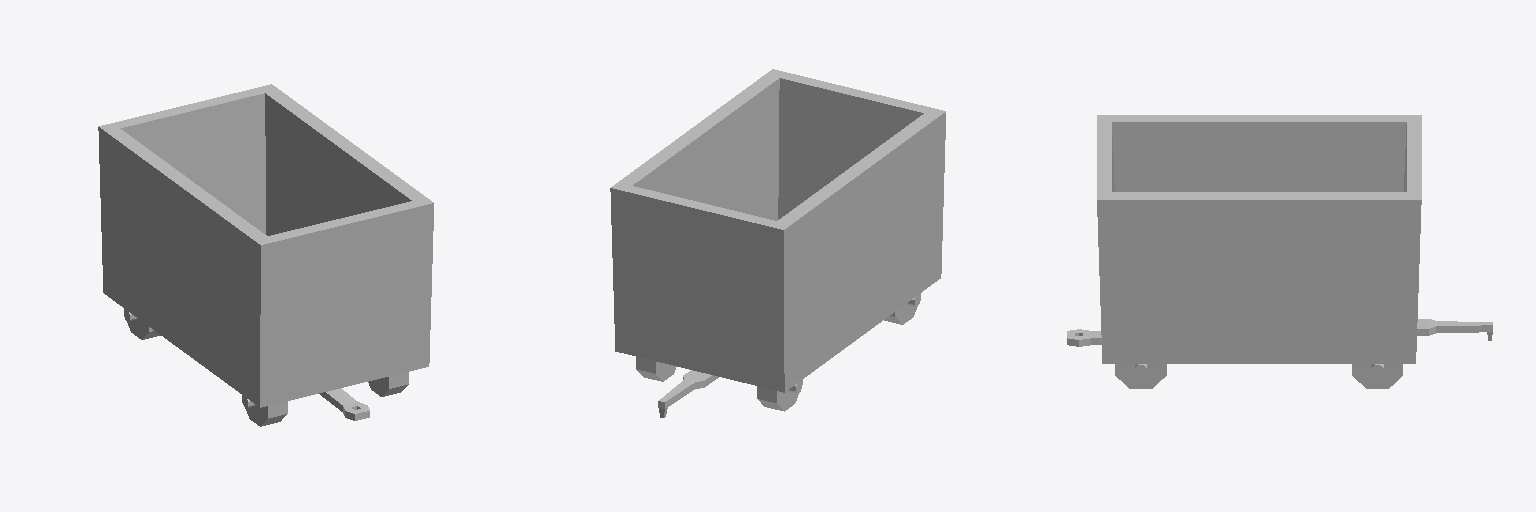
File: rail_cart.obj
The picture shows the model from 3 angles: view 1: azimuth 30°, elevation 25°; view 2: azimuth 150°, elevation 25°; view 3: azimuth 270°, elevation 25°; orthographic projection.
Parts seen in each view (by area): view 1: Cube.001; view 2: Cube.001; view 3: Cube.001.
Part boxes in pixels (bbox=[...]): Cube.001: bbox=[98, 84, 433, 426]; Cube.001: bbox=[610, 69, 945, 417]; Cube.001: bbox=[1067, 115, 1492, 388].
Size of the model in its own units: 0.5702 by 0.6206 by 1.21.